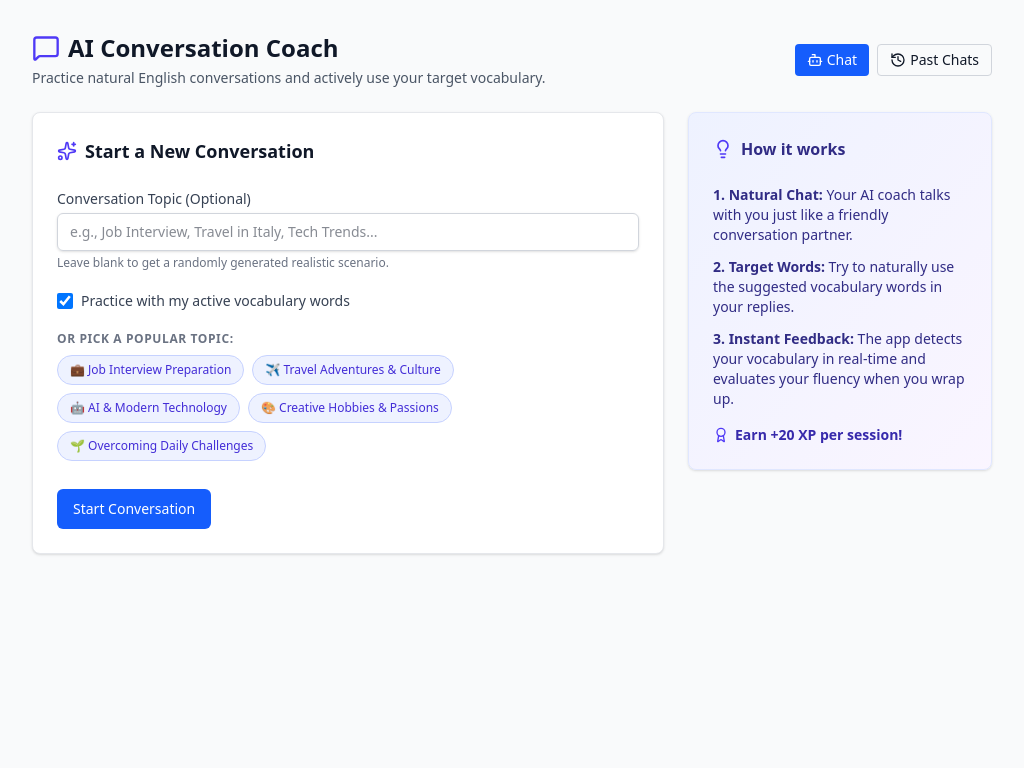
Test case: ConversationsPage › allows user to send message and displays assistant response with detected vocabulary
This screenshot has width=1024, height=768.
Start session
Click the button "Start Conversation" at (134,509), box [57,489,211,529]
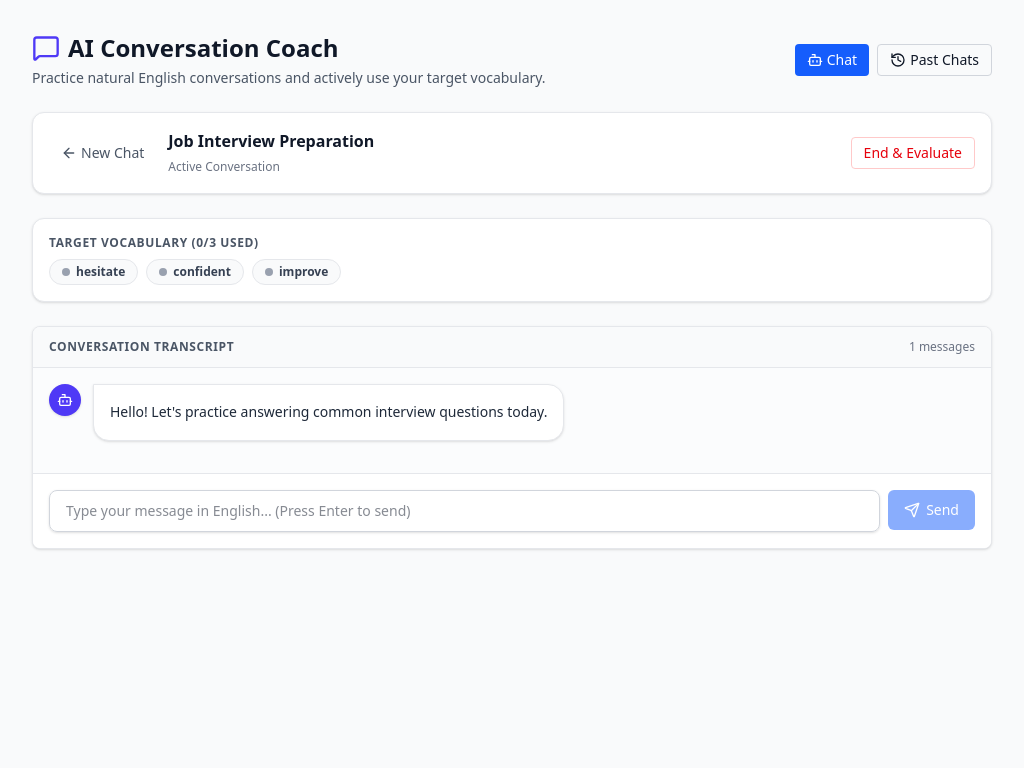
Expected: the field with placeholder "Type your message in English... (Press Enter to send)" is shown
Type "I sometimes hesitate during behavioral questions." into the field with placeholder "Type your message in English... (Press Enter to send)" at (465,511), box [49,490,880,532]
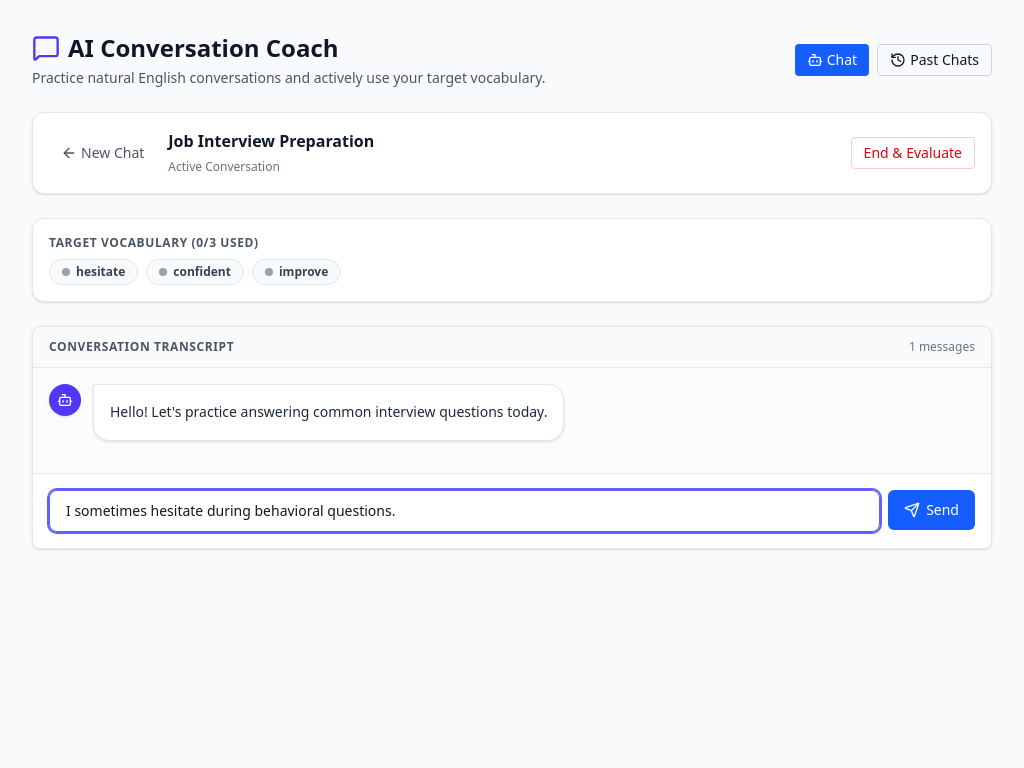
Click the button "Send" at (932,510), box [888,490,975,530]
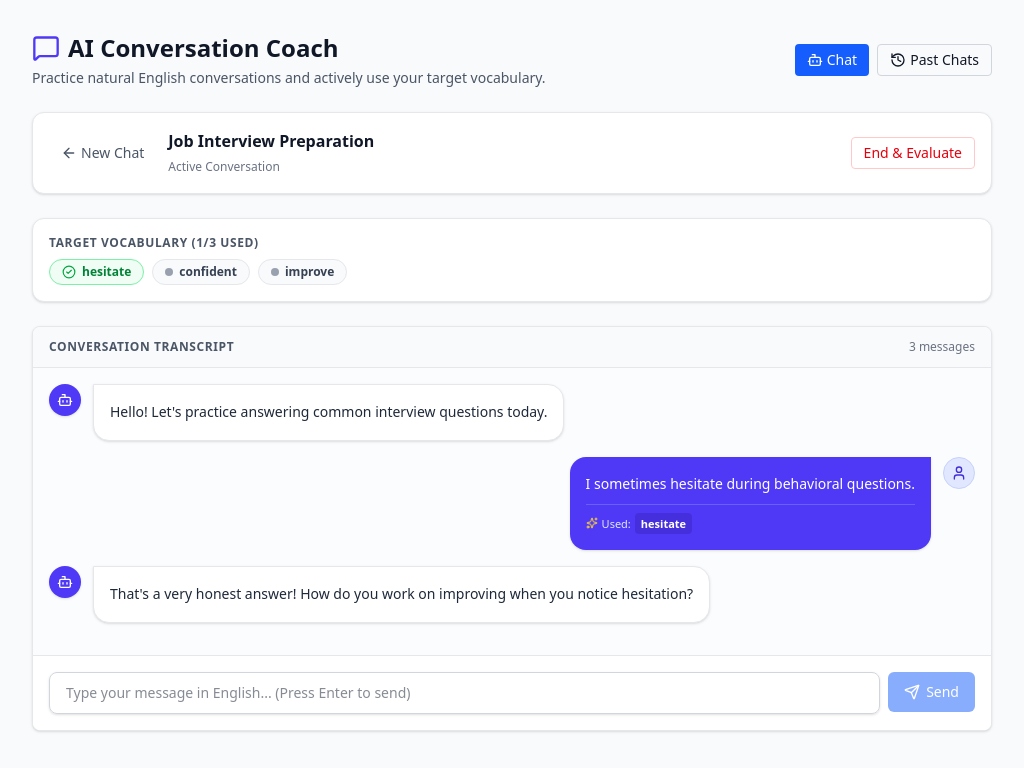
Expected: the text "That's a very honest answer! How do you work on improving when you notice hesitation?" is shown, [110,584,693,603]
Expected: the text "I sometimes hesitate during behavioral questions." is shown, [586,473,915,496]
Expected: the text "Used:" is shown, [602,514,631,532]
